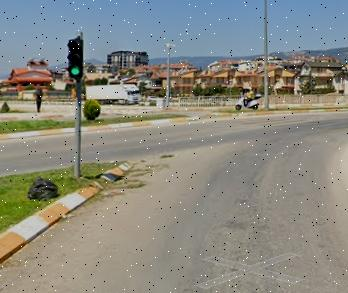greenlight: (69, 39, 83, 76)
